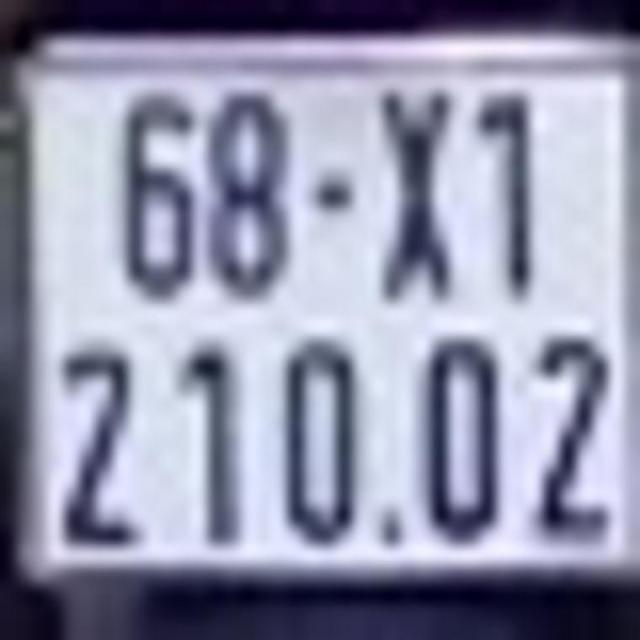0: (412, 323, 504, 535), (273, 328, 359, 541)
1: (474, 85, 545, 294), (180, 340, 241, 543)
2: (517, 328, 625, 531), (59, 339, 139, 551)
6: (118, 80, 198, 301)
8: (204, 85, 293, 302)
X: (374, 80, 456, 296)
